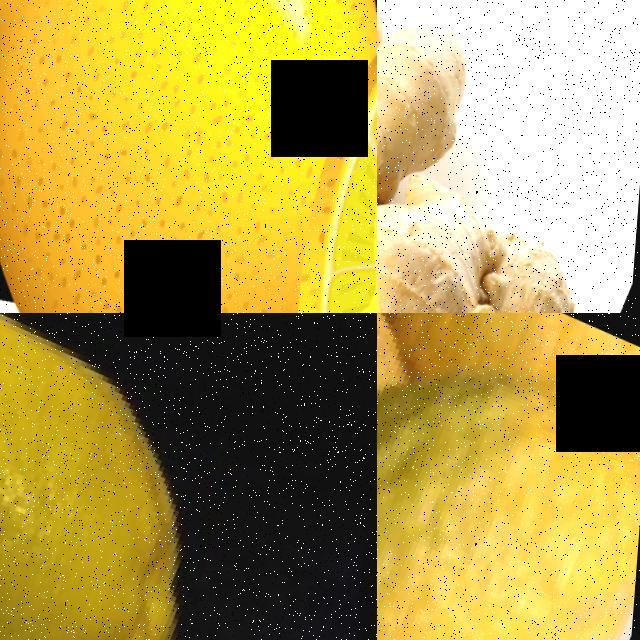ginger: (377, 126, 618, 313), (377, 0, 511, 227)
lemon: (0, 0, 377, 313), (0, 313, 288, 640), (377, 340, 640, 640), (255, 0, 377, 313)
